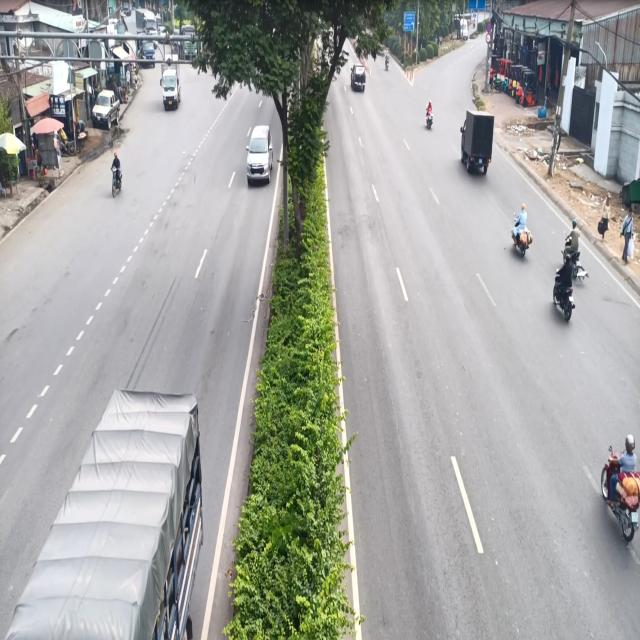car: (247, 118, 273, 194), (348, 61, 368, 100)
motor: (597, 420, 640, 550), (505, 199, 532, 258), (563, 212, 584, 274), (109, 150, 125, 200)
